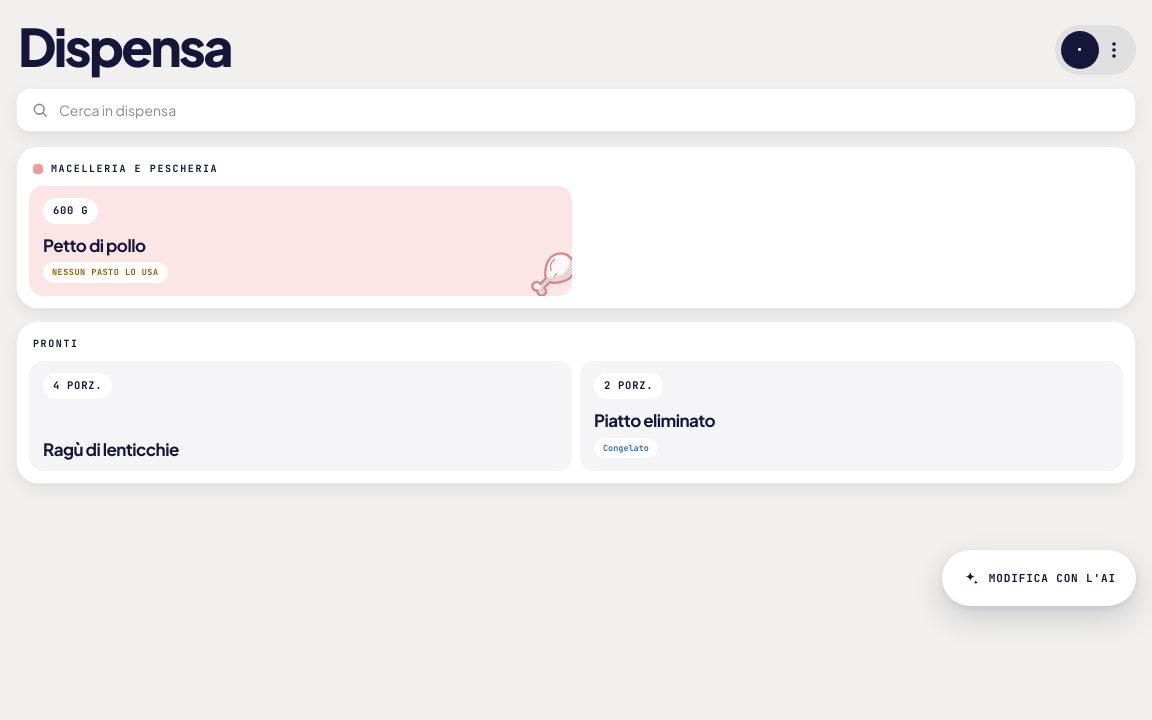
Test: Dispensa: i widget › la pillola: una voce dimenticata dice NESSUN PASTO LO USA
Click the button with aria-label "Apri Petto di pollo".
click(71, 211)  # box [29,186,572,296]
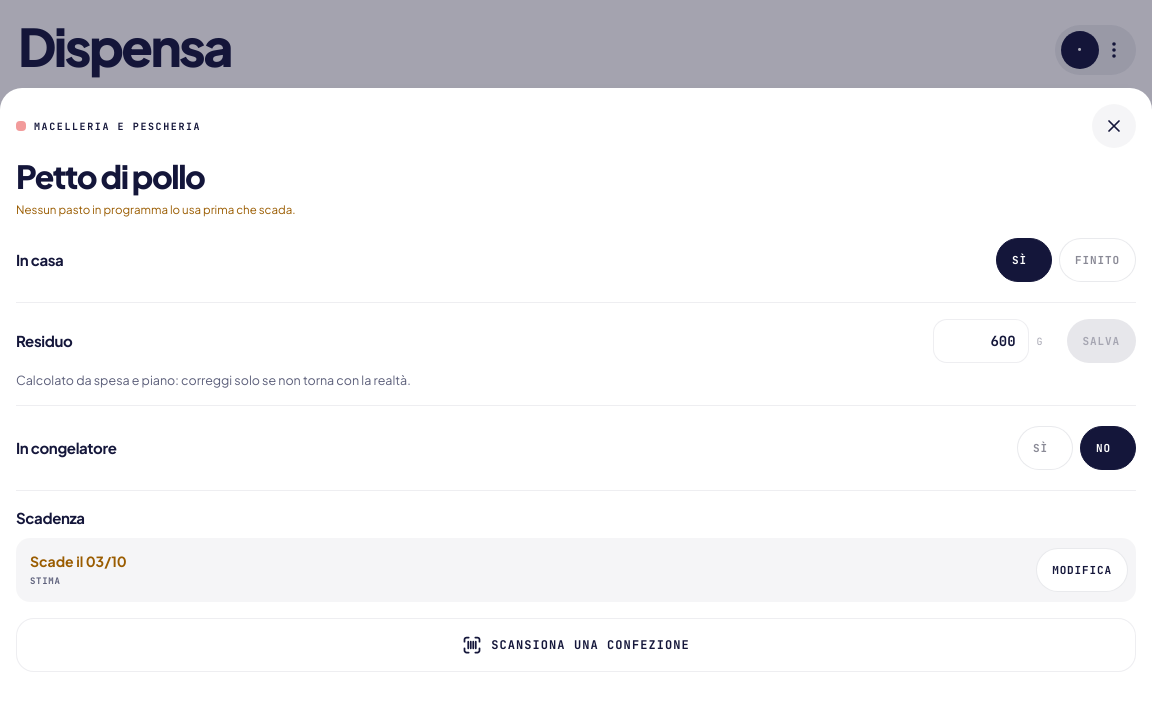
Check: the text "Nessun pasto in programma lo usa prima che scada." is shown, box [16,202,296,217]
